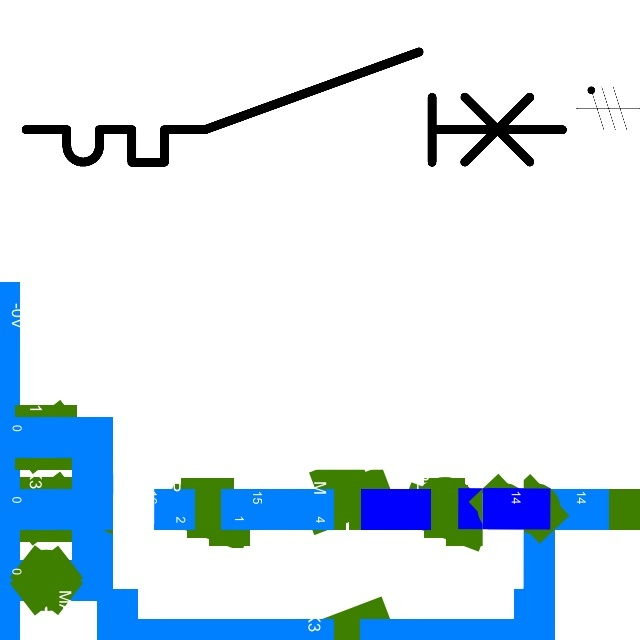interruptor_termomagnetico: (12, 38, 576, 176)
